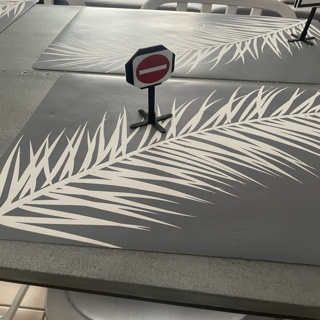sign_noentry: (130, 54, 171, 89)
